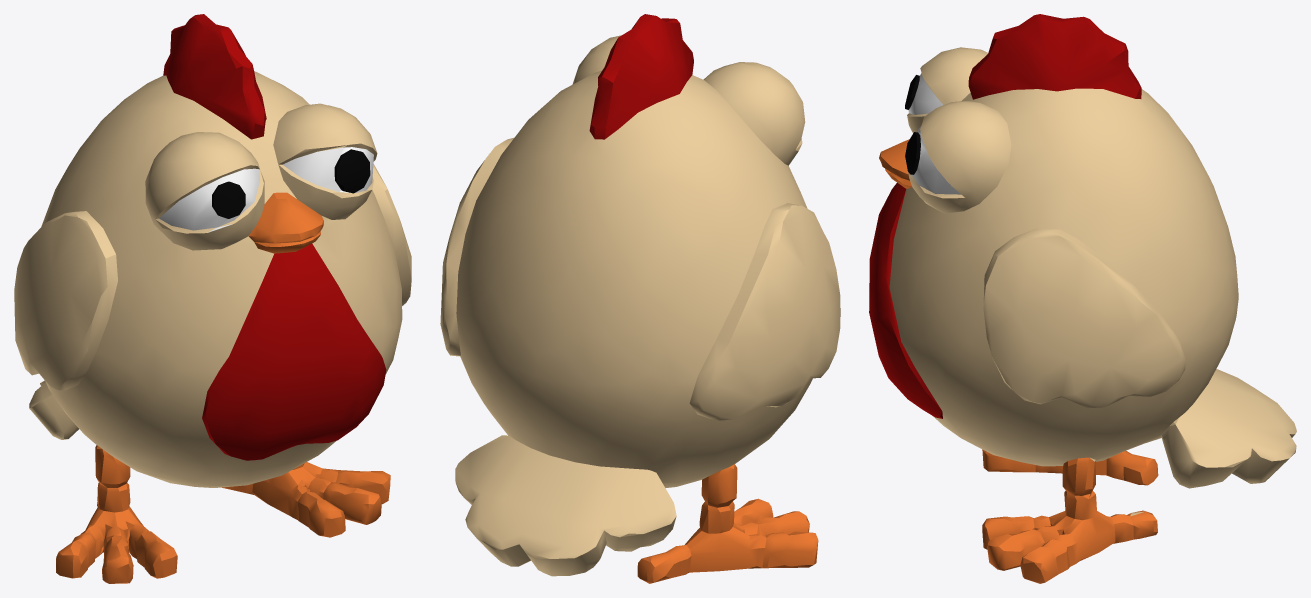
Rendered from m_tavuk.fbx.
3 renders of one model, left to right at view 1: azimuth 30°, elevation 25°; view 2: azimuth 150°, elevation 25°; view 3: azimuth 270°, elevation 25°, orthographic. The views are drawn at different scales.
Parts seen in each view (by area): view 1: LazyChickenCGT.001; view 2: LazyChickenCGT.001; view 3: LazyChickenCGT.001.
Part boxes in pixels (x1=…): LazyChickenCGT.001: x1=14, y1=14, x2=411, y2=583; LazyChickenCGT.001: x1=440, y1=14, x2=840, y2=583; LazyChickenCGT.001: x1=869, y1=14, x2=1296, y2=583.
Size of the model in its own units: 6.24 by 8.62 by 6.77.
